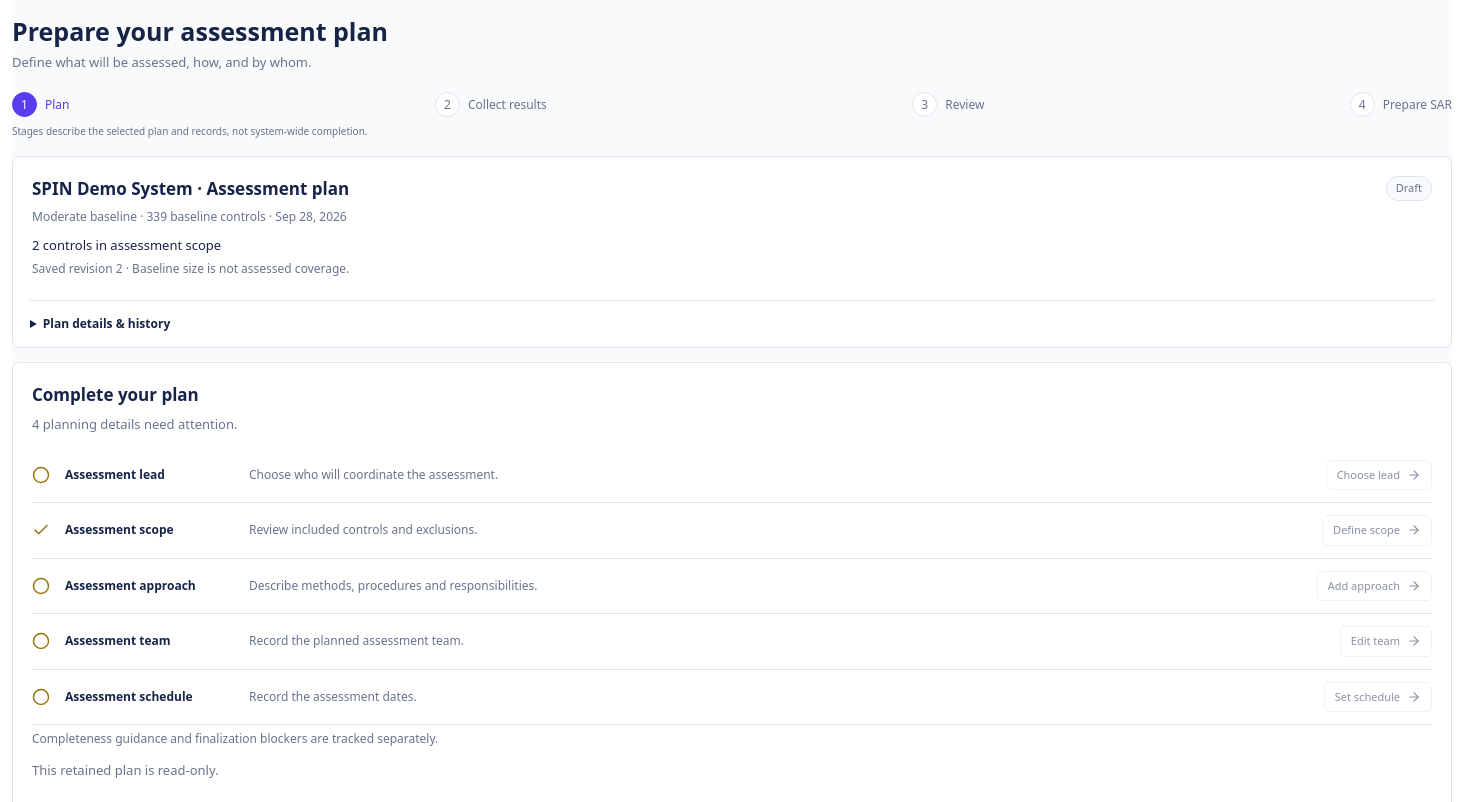
Test: Connected assessment workspace › keeps the saved-plan action group read-only when editing is not authorized
Click the heading "Plan details & history".
click(106, 324)  # box [43, 315, 170, 332]
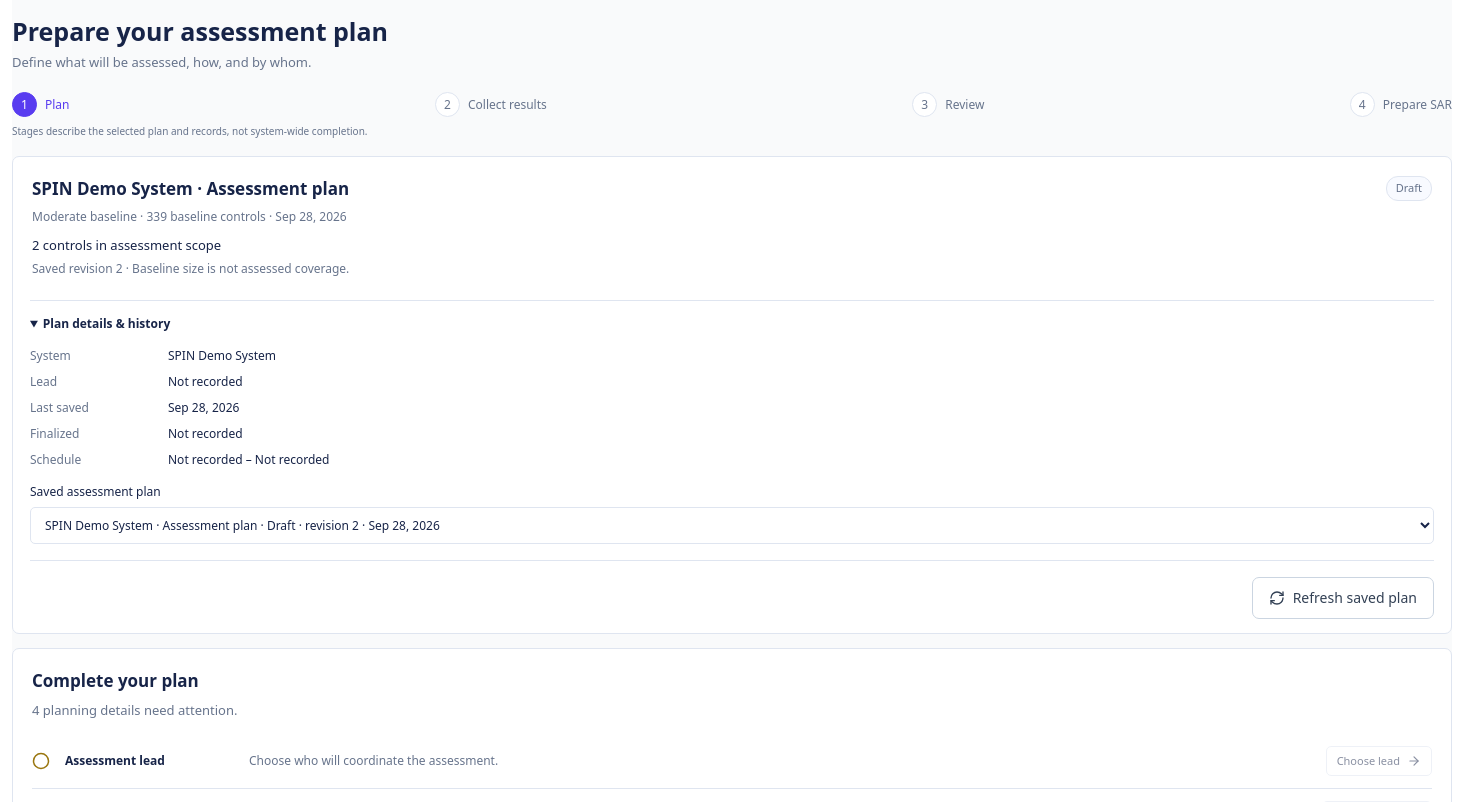
Now the button "Refresh saved plan" is enabled, box [1252, 577, 1434, 619]
